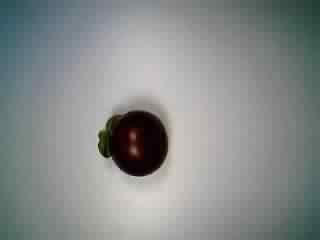mangosteen: (93, 106, 170, 181)
